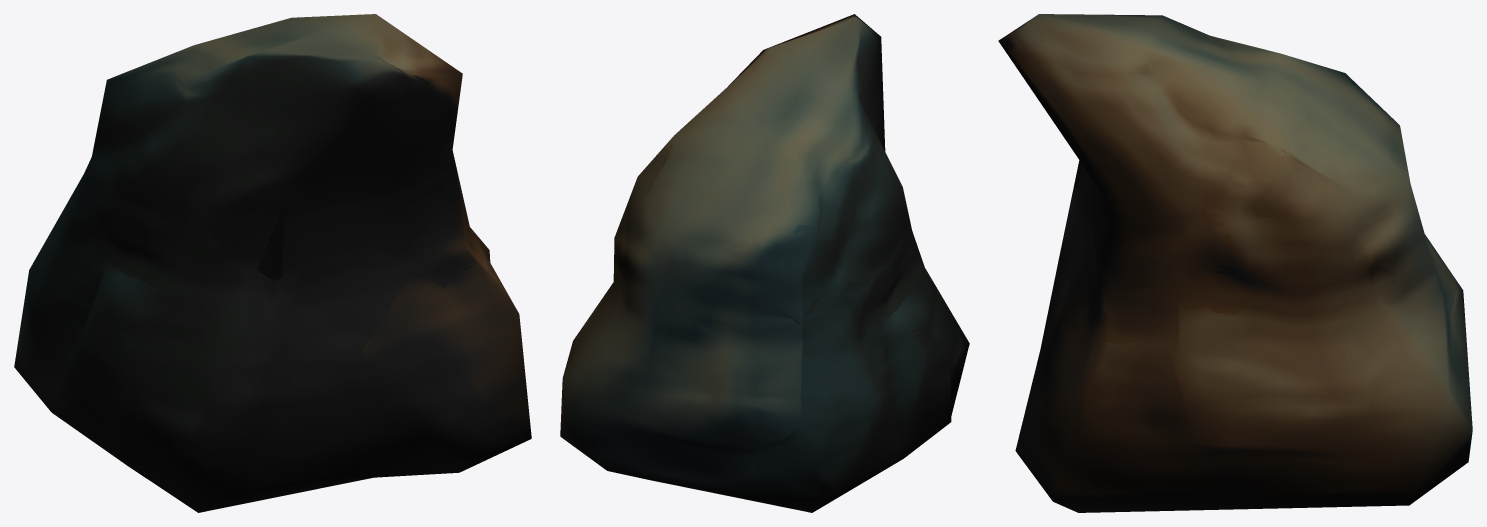
The picture shows the model from 3 angles, left to right: view 1: azimuth 30°, elevation 25°; view 2: azimuth 150°, elevation 25°; view 3: azimuth 270°, elevation 25°; orthographic projection. The views are drawn at different scales.
Parts seen in each view (by area): view 1: Cube.002; view 2: Cube.002; view 3: Cube.002.
Part boxes in pixels (box(x1,y1,x2,y2)): Cube.002: box(14, 14, 531, 512); Cube.002: box(560, 14, 969, 512); Cube.002: box(998, 14, 1472, 512).
Size of the model in its own units: 272 by 298 by 299.
1 material, 1 textured.
